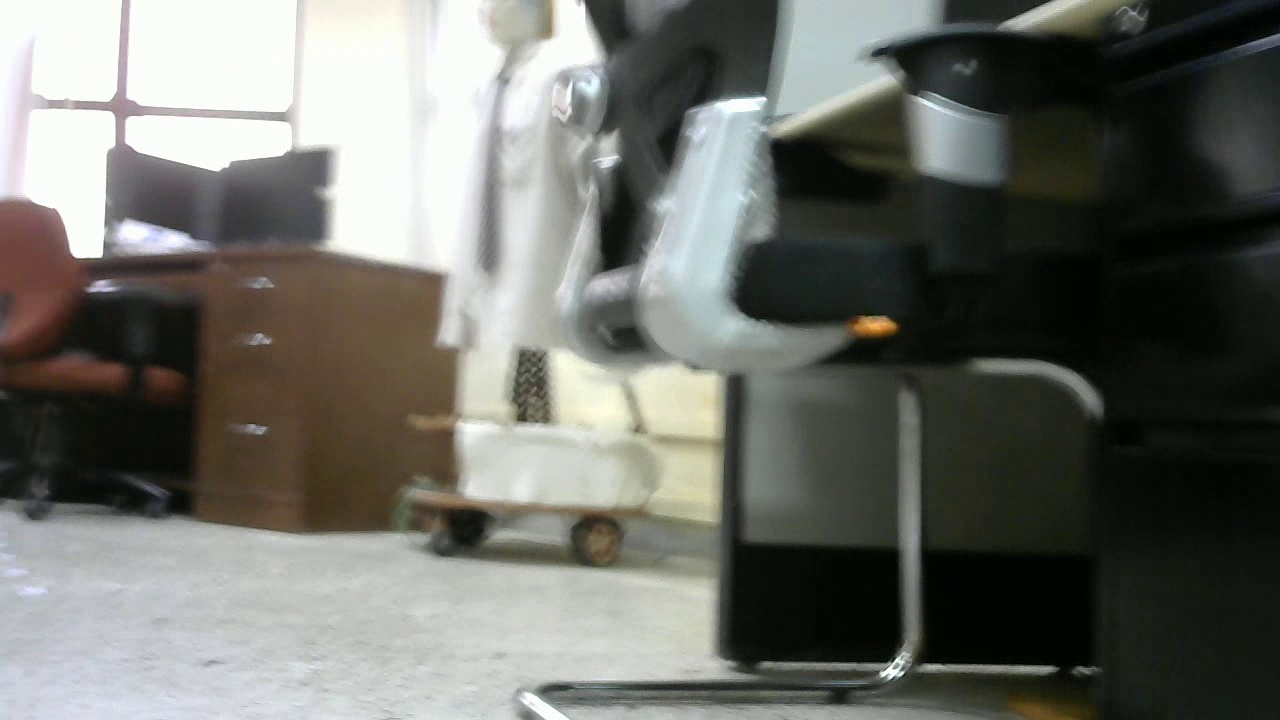chair: (519, 3, 1095, 720), (1, 200, 196, 527)
